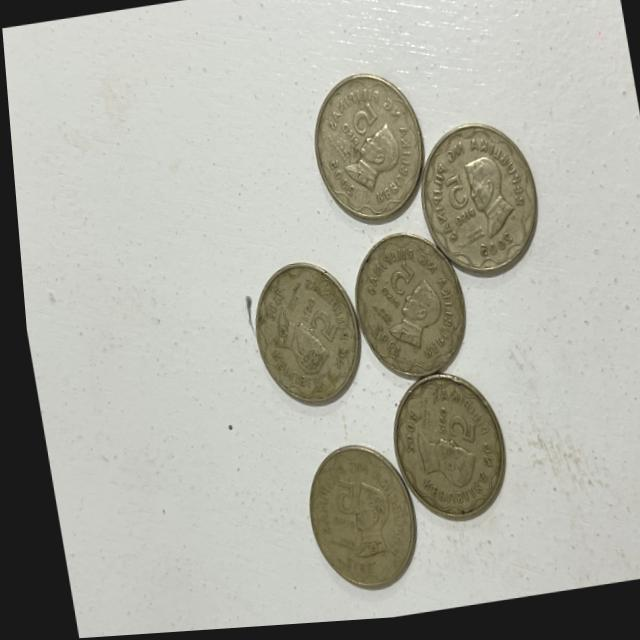5_Old_Front: (286, 287, 352, 348), (433, 170, 481, 244), (312, 473, 365, 540), (362, 256, 419, 317), (331, 90, 377, 158), (428, 398, 478, 452)
